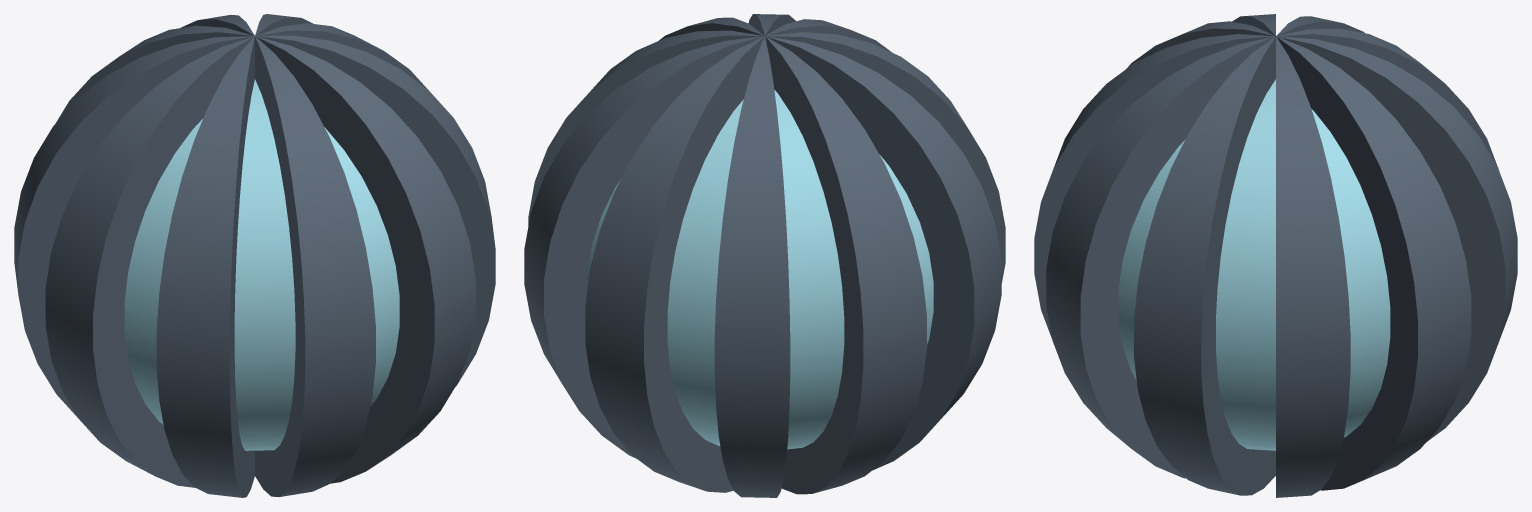
3 renders of one model, left to right at view 1: azimuth 30°, elevation 25°; view 2: azimuth 150°, elevation 25°; view 3: azimuth 270°, elevation 25°, orthographic.
Visible parts, largest first — view 1: pSphere28; view 2: pSphere28; view 3: pSphere28.
Boxes of the visible parts, x1,y1,x2,y2 form: pSphere28: [14, 14, 495, 497]; pSphere28: [524, 14, 1005, 497]; pSphere28: [1034, 14, 1517, 497].
Size of the model in its own units: 58.31 by 58.51 by 58.31.
